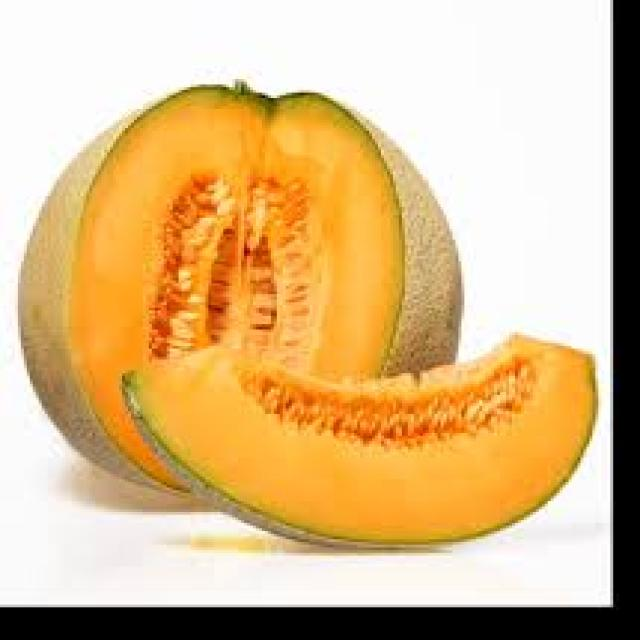cantaloupe: (19, 77, 464, 497), (124, 334, 600, 548)
